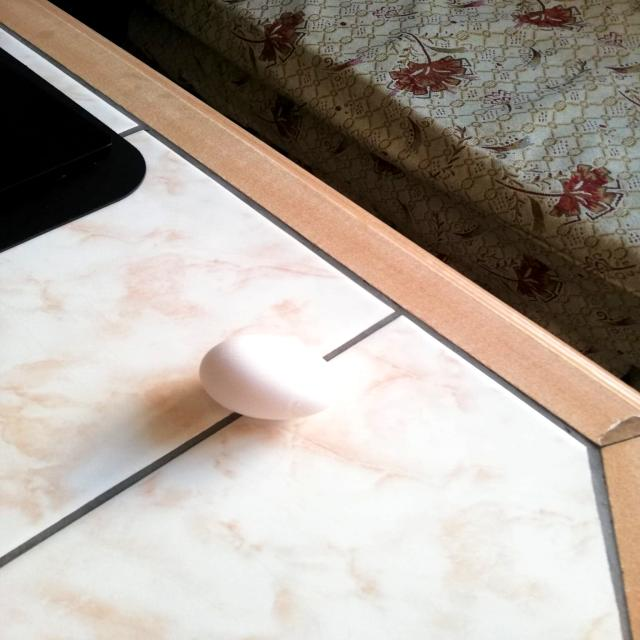egg: (192, 323, 351, 427)
